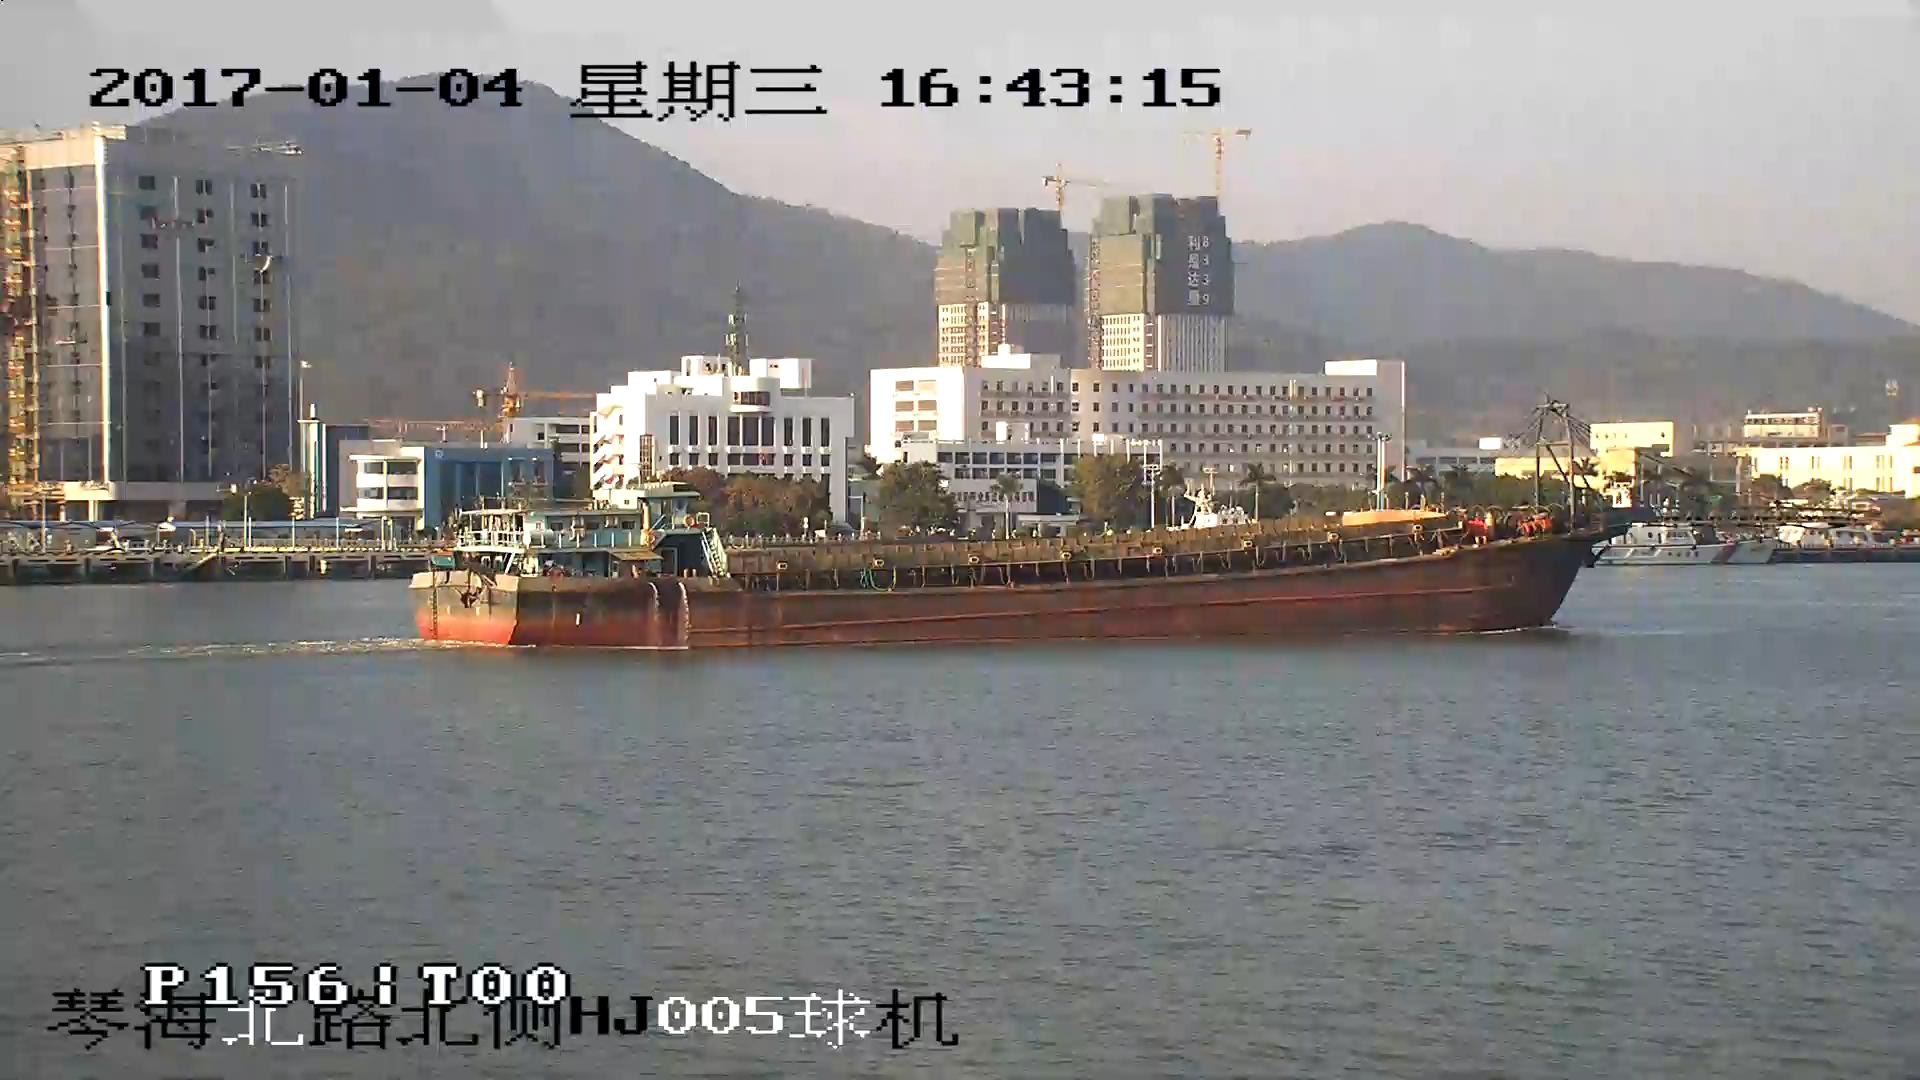bulk cargo carrier: (409, 410, 1849, 647)
